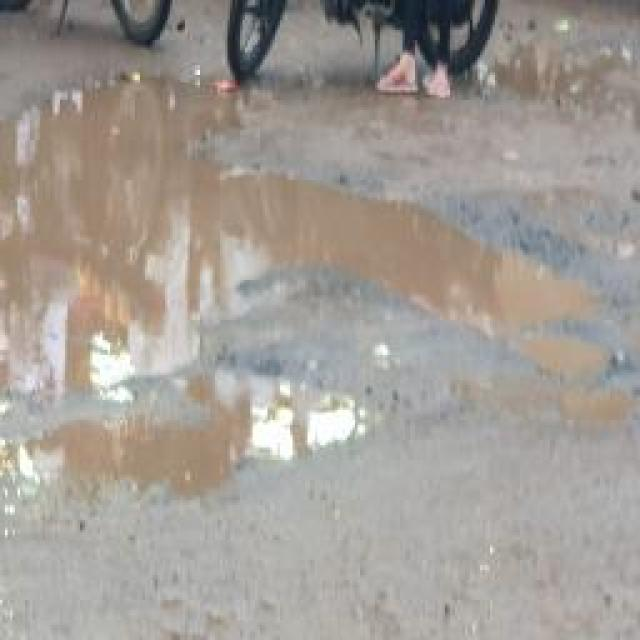waterlogging: (85, 154, 428, 318), (0, 368, 385, 514), (506, 320, 640, 437)
